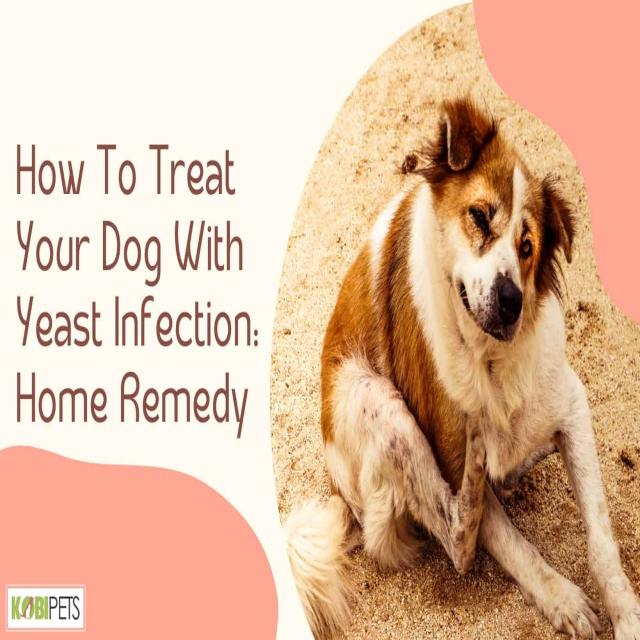fungal infection: (416, 479, 476, 567), (481, 495, 517, 568), (608, 574, 640, 639), (384, 429, 418, 481), (359, 373, 384, 435), (463, 462, 483, 527), (532, 547, 555, 602), (592, 488, 612, 546), (574, 452, 592, 498), (400, 469, 419, 504), (569, 393, 583, 435)
